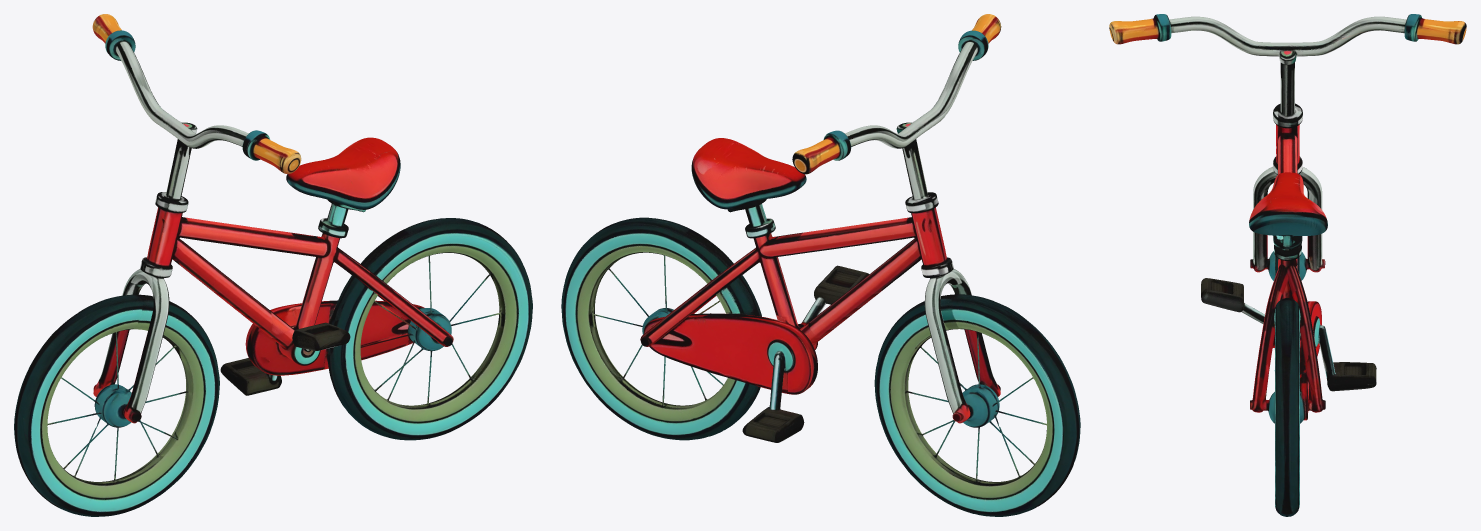
The model's file is Bicicletta.glb.
3 views of the same model, side by side, from view 1: azimuth 30°, elevation 25°; view 2: azimuth 150°, elevation 25°; view 3: azimuth 270°, elevation 25° (orthographic). The views are drawn at different scales.
Bounding box in the file's own units: 1.9 × 1.46 × 1.23.
Materials: 1 (1 with a texture image).
